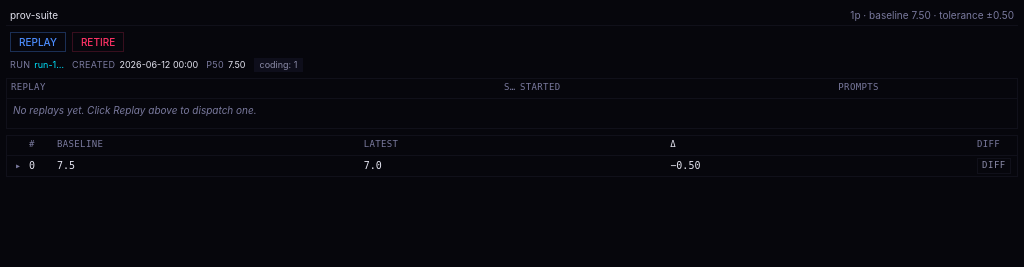
Test: SuiteDetailView provenance (v0.4.37) › expanding a row shows the full raw_prompt + dimension scores
Click the button with test id "prompt-expand-btn": (18, 166) [11,156,25,176]
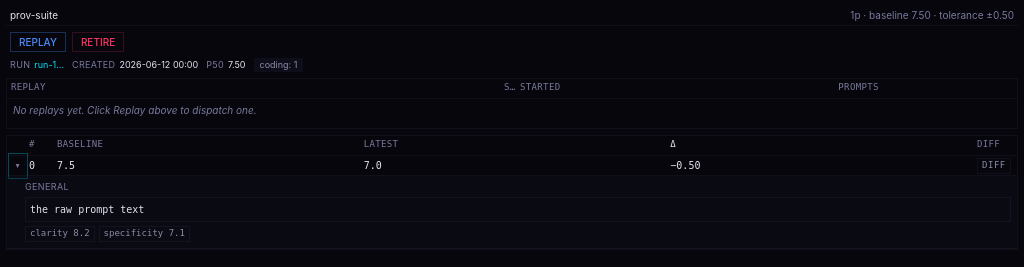
Result: the element with test id "prompt-expanded" shows "the raw prompt text" at [30,204,144,215]
Result: the element with test id "prompt-expanded" shows "clarity 8.2" at [30,228,90,238]
Result: the element with test id "prompt-expanded" shows "specificity 7.1" at [104,228,185,238]
